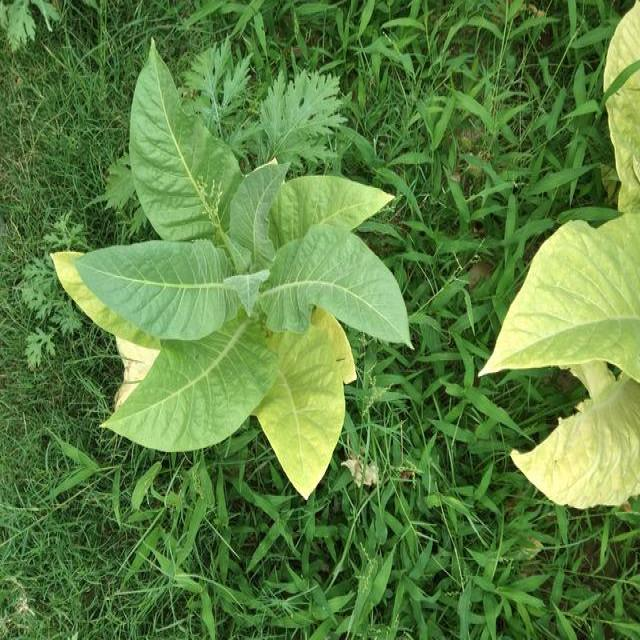crop: (56, 43, 416, 490)
